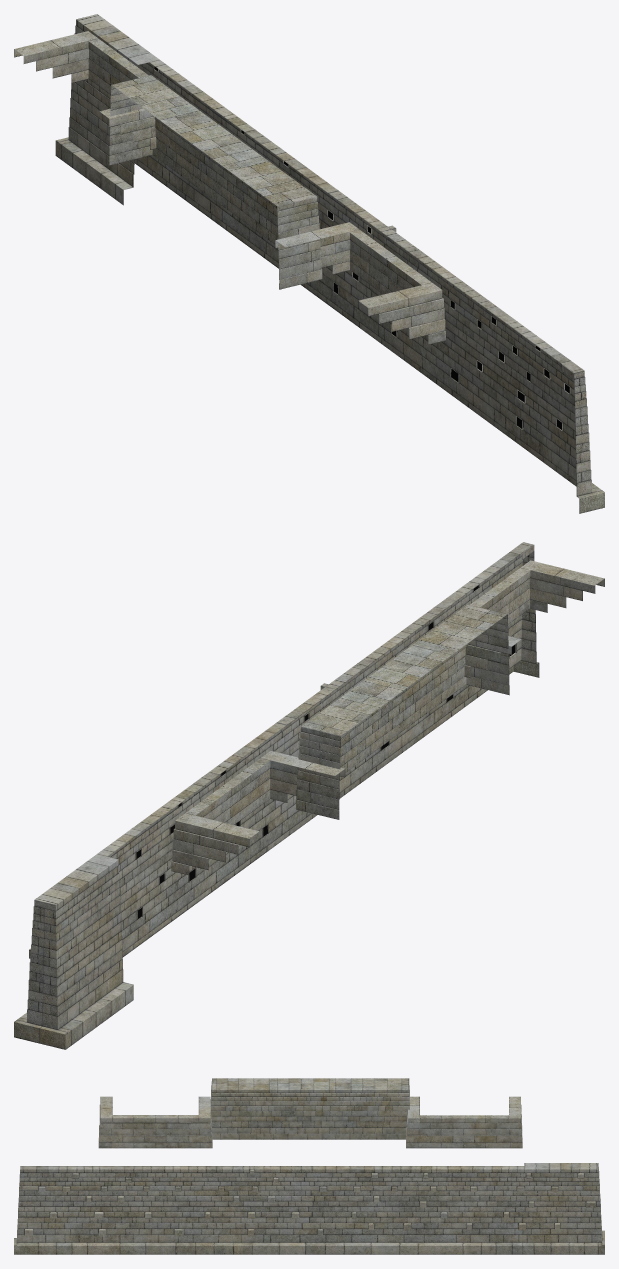
File: abut_w.glb
3 views of the same model, one above another, from view 1: azimuth 30°, elevation 25°; view 2: azimuth 150°, elevation 25°; view 3: azimuth 270°, elevation 25° (orthographic). The views are drawn at different scales.
Parts seen in each view (by area): view 1: SM_24ET0017_M001, SM_24ET0017_M002; view 2: SM_24ET0017_M001, SM_24ET0017_M002; view 3: SM_24ET0017_M001, SM_24ET0017_M002.
Part boxes in pixels (x1,y1,x2,y2): SM_24ET0017_M001: (55,14,604,513); SM_24ET0017_M002: (14,31,445,344); SM_24ET0017_M001: (14,542,539,1049); SM_24ET0017_M002: (171,560,604,875); SM_24ET0017_M001: (14,1163,604,1254); SM_24ET0017_M002: (98,1078,522,1148).
Bounding box in the file's own units: 6.96 × 8.85 × 36.58.
2 materials, 2 textured.
